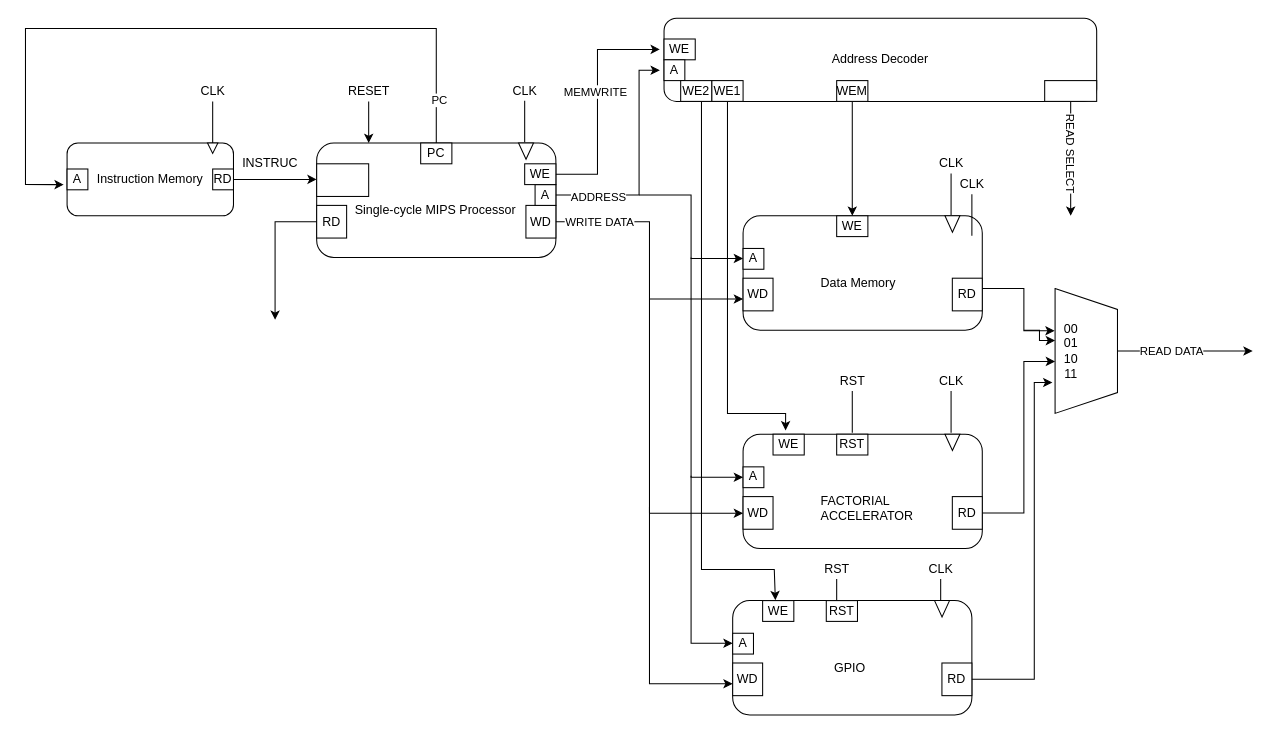
Image size: 1279x733. Some labels were removed from this diagram. Each missing label, with the centre of its shape:
"INSTR" goes at point 342,179.
"RDSEL" goes at point 1070,90.
